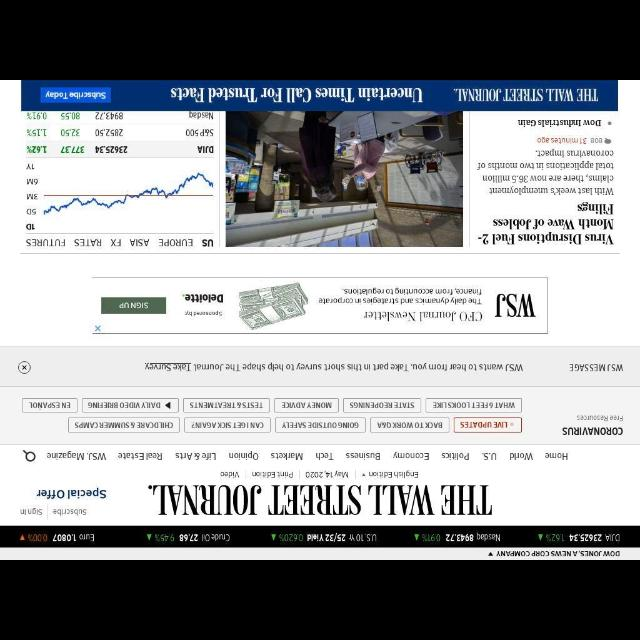button: (18, 362, 32, 374)
icon: (22, 448, 36, 462), (164, 402, 172, 410), (22, 364, 26, 371), (488, 553, 492, 557)
iframe: (94, 276, 548, 334)
image: (42, 163, 212, 234)
spinner: (487, 548, 619, 558)
text: (148, 482, 494, 518), (476, 148, 614, 196), (478, 202, 614, 246), (143, 361, 523, 374), (170, 85, 424, 103), (453, 86, 599, 104), (36, 487, 106, 499), (432, 400, 516, 410), (73, 421, 174, 429), (516, 119, 602, 128), (495, 550, 619, 556), (192, 420, 264, 430), (89, 400, 161, 410), (307, 532, 378, 542), (282, 422, 358, 431), (377, 420, 443, 430), (562, 427, 624, 437), (46, 90, 106, 100), (189, 401, 263, 409), (444, 533, 500, 543), (568, 363, 624, 373), (368, 469, 422, 479), (46, 452, 106, 461), (178, 532, 230, 542), (536, 135, 588, 145), (350, 401, 414, 409), (570, 532, 620, 542), (51, 533, 97, 543), (344, 450, 380, 462), (252, 469, 294, 479), (174, 451, 216, 461), (24, 238, 66, 248), (282, 402, 332, 410), (576, 413, 624, 421), (304, 471, 350, 479), (269, 451, 305, 461), (158, 238, 194, 248), (28, 402, 72, 410), (394, 451, 428, 461), (94, 143, 128, 153), (441, 449, 469, 461), (116, 454, 164, 461), (183, 128, 214, 138), (421, 530, 442, 544), (95, 127, 124, 137), (95, 109, 124, 119), (52, 508, 88, 516), (460, 422, 508, 428), (188, 110, 216, 120), (510, 451, 532, 462), (280, 533, 304, 543), (544, 451, 568, 461), (60, 144, 84, 154), (60, 126, 80, 138), (26, 128, 49, 138), (230, 453, 258, 461), (20, 506, 42, 516), (26, 144, 48, 154), (314, 451, 334, 461), (480, 451, 498, 462), (74, 240, 102, 247), (547, 532, 565, 542), (156, 533, 174, 543), (62, 112, 80, 122), (26, 112, 48, 120), (28, 535, 48, 543), (130, 238, 150, 246), (198, 146, 215, 154), (220, 472, 240, 478), (110, 238, 122, 248), (25, 191, 37, 201), (591, 136, 603, 144), (202, 239, 214, 247), (24, 162, 36, 170), (26, 208, 36, 216), (26, 179, 38, 185), (28, 223, 34, 230)
textbutton: (41, 88, 111, 102)
